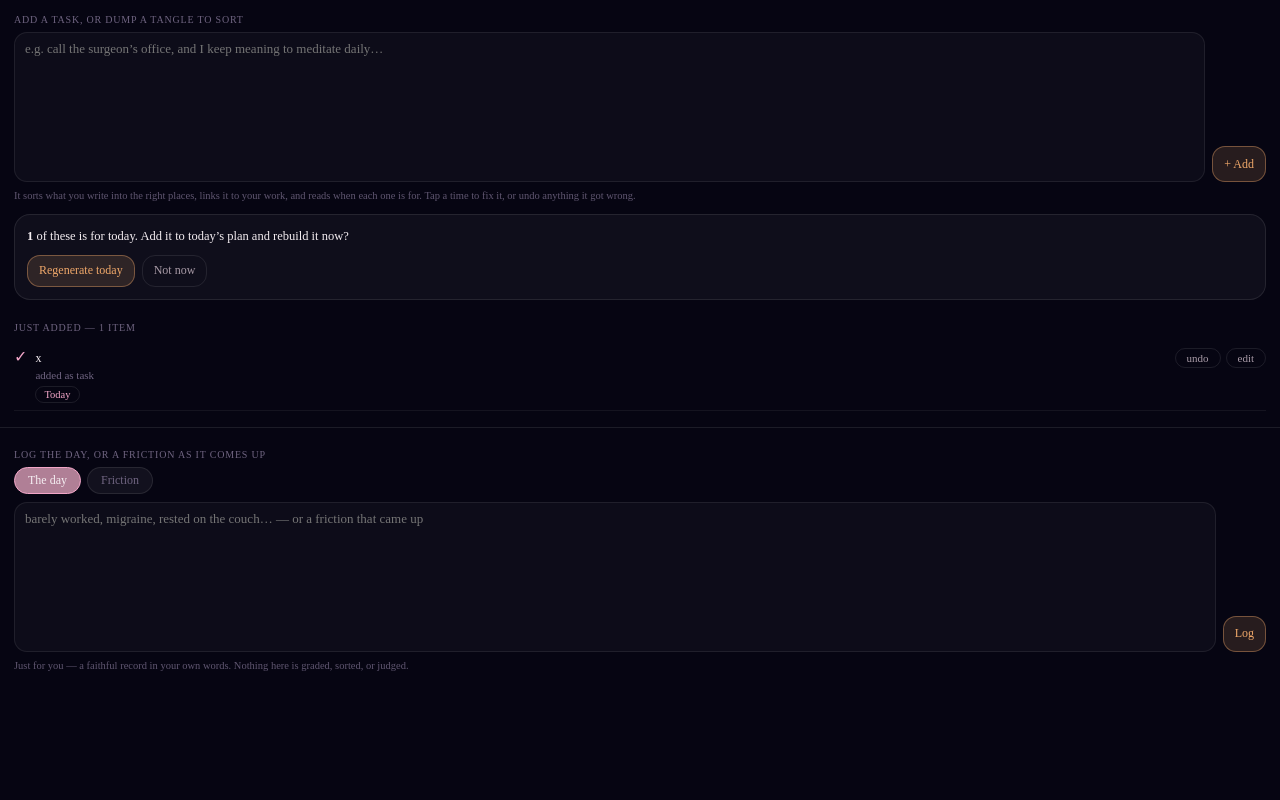
Test: AddScreen — the verify gate before anything rebuilds her day › "Not now" changes nothing — it must not rebuild the plan
The image size is (1280, 800).
Click the button "Not now" at (174, 271), box [142, 255, 207, 287]
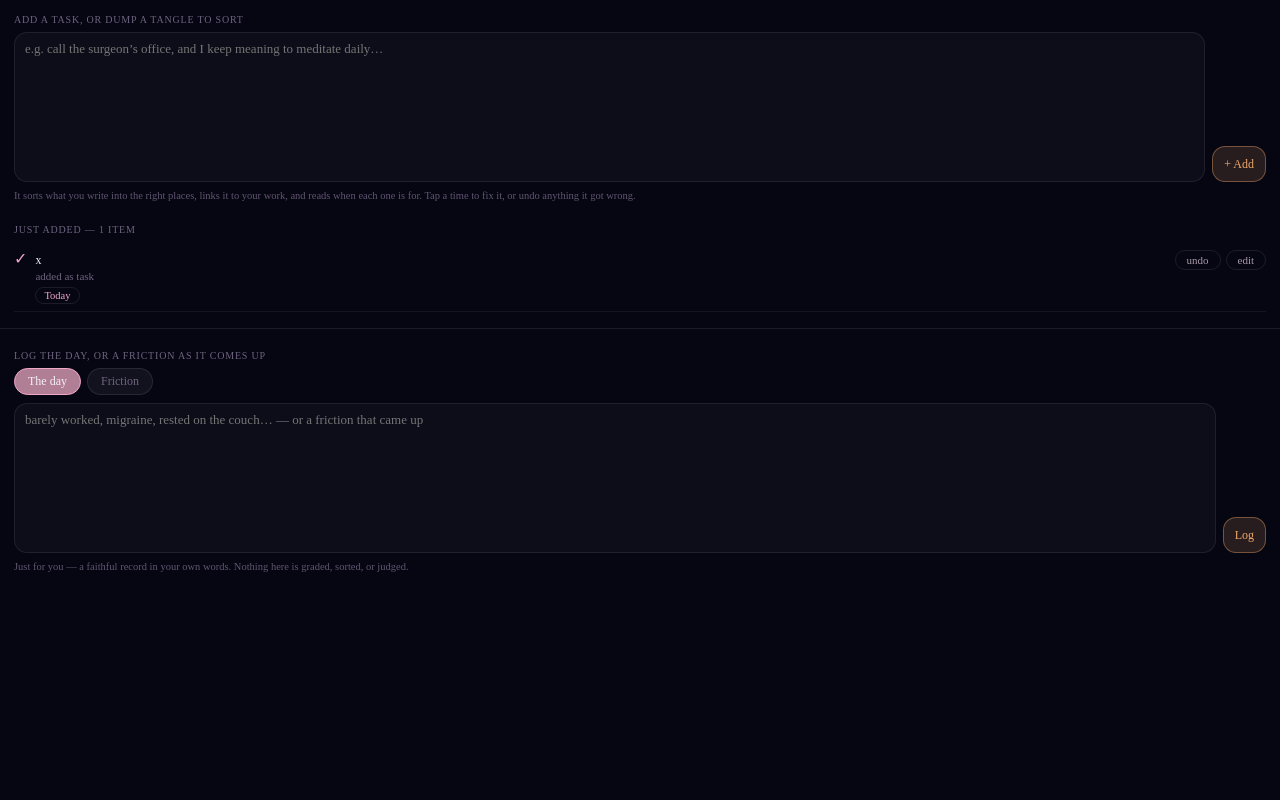
Check: the button "Regenerate today" is gone
